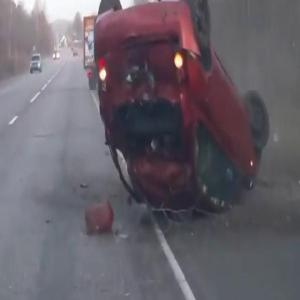fatal: (82, 0, 274, 224)
